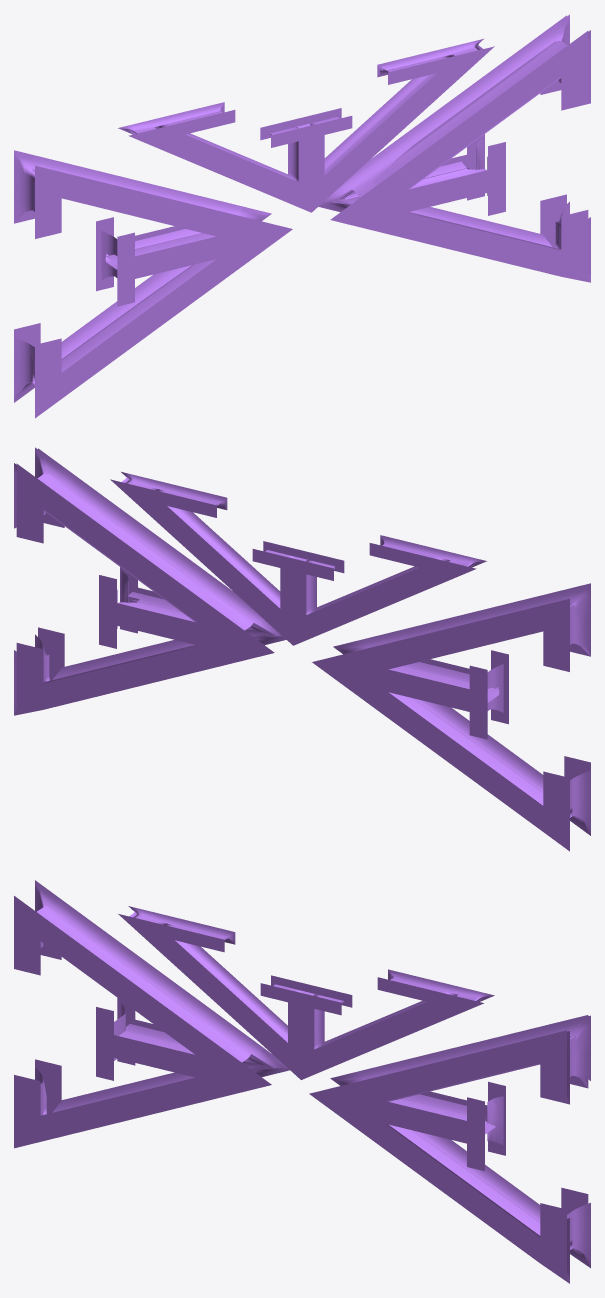
Rendered from idk.glb.
3 views of the same model, one above another, from view 1: azimuth 30°, elevation 25°; view 2: azimuth 150°, elevation 25°; view 3: azimuth 330°, elevation 25° (orthographic).
Parts seen in each view (by area): view 1: temp.001; view 2: temp.001; view 3: temp.001.
Part boxes in pixels (x1,y1,x2,y2): temp.001: (14, 14, 590, 418); temp.001: (14, 447, 590, 851); temp.001: (14, 880, 590, 1283).
Bounding box in the file's own units: 30.47 × 13.35 × 2.
